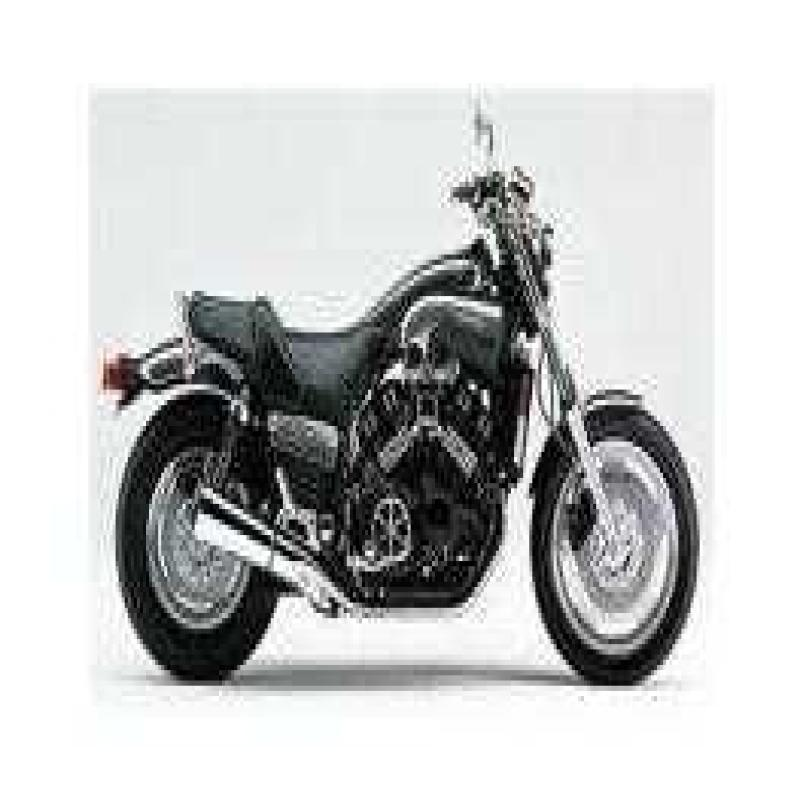bike: (98, 114, 712, 675)
